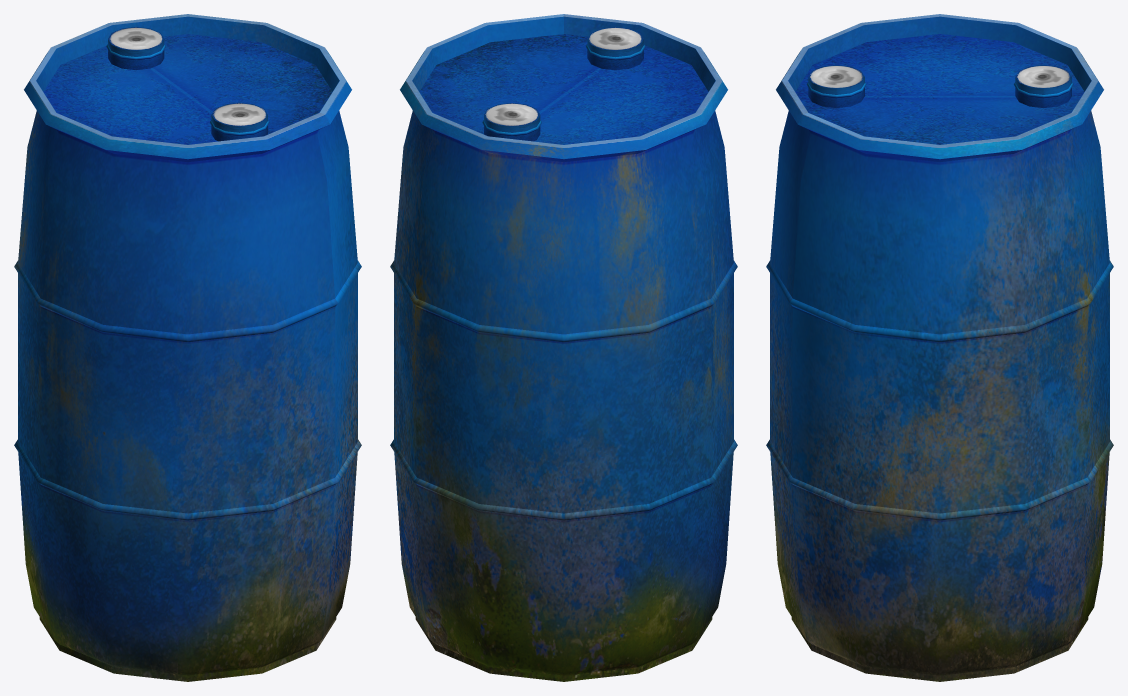
Rendered from barrel02.obj.
3 views of the same model, side by side, from view 1: azimuth 30°, elevation 25°; view 2: azimuth 150°, elevation 25°; view 3: azimuth 270°, elevation 25° (orthographic).
Parts seen in each view (by area): view 1: Barrel02; view 2: Barrel02; view 3: Barrel02.
Boxes of the visible parts, left/top/right/bottom form: Barrel02: left=14, top=14, right=361, bottom=681; Barrel02: left=390, top=14, right=737, bottom=681; Barrel02: left=766, top=14, right=1113, bottom=681.
Size of the model in its own units: 0.614 by 1.06 by 0.614.
